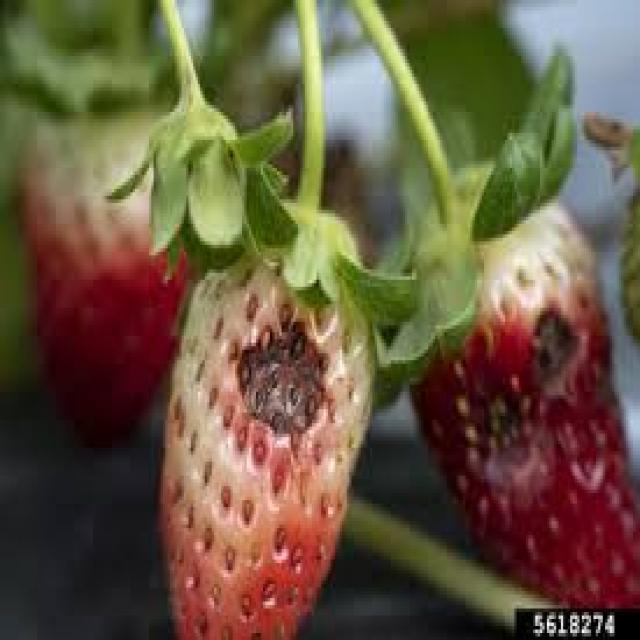Fruta sana: (14, 86, 184, 433)
Mancha negra Antracnosis: (401, 157, 640, 598), (168, 210, 358, 635)
